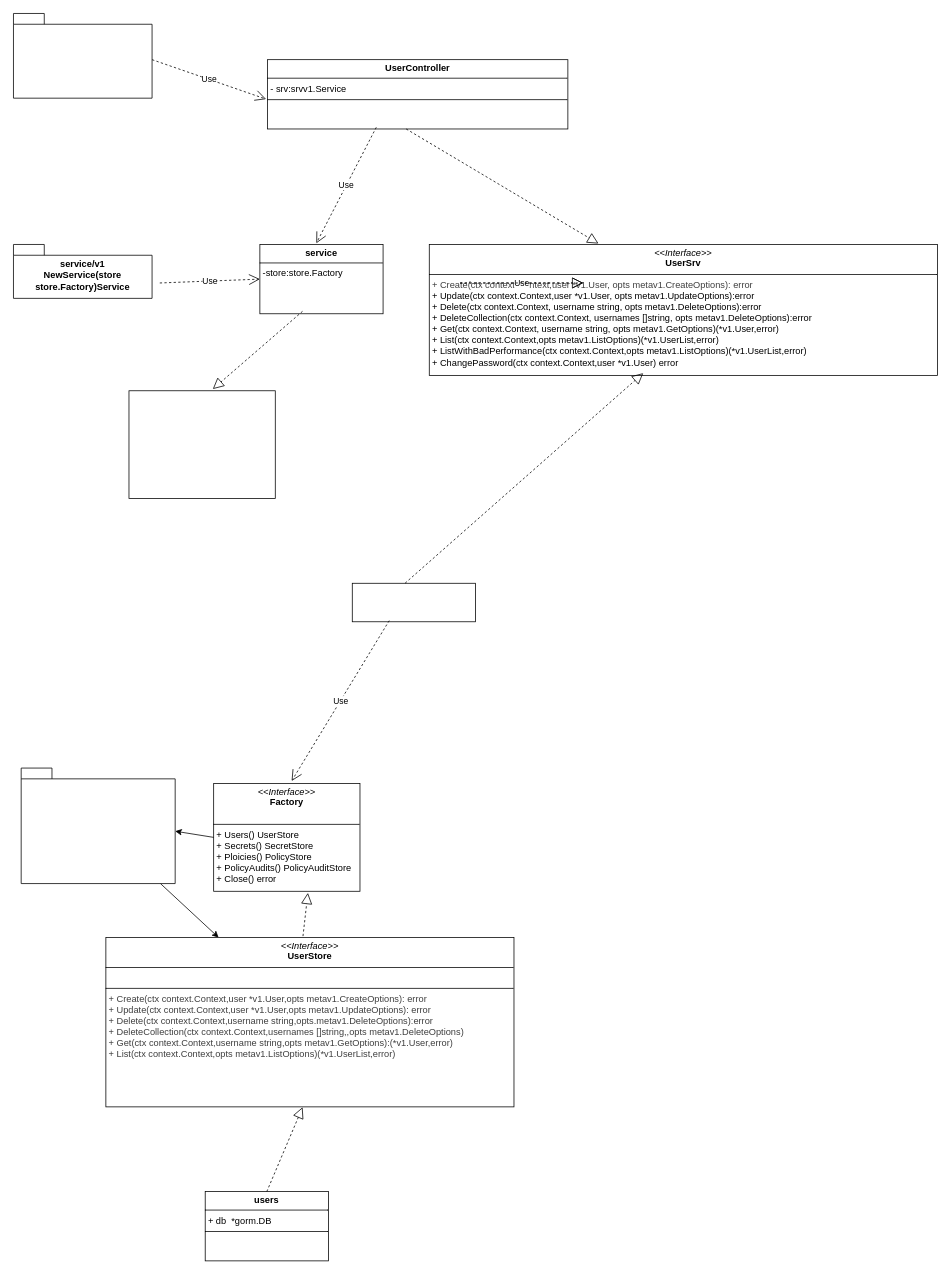
This 951x1274 diagram has some shape labels left out. The centre of each missing label's shape, as x and y in pixels:
<<Interface>> Service Users() UserSrv Secrets() SecretSrv Policies() PolicySrv: the point at 201,444
control/v1/user NewUserController(store store.Factory):*UserController: the point at 82,55
store GetMySQLFactoryOr(opts *genericoptions.MySQLOptions) （store.Factory,error）: the point at 97,825
userService - store: store.Factory: the point at 413,602
